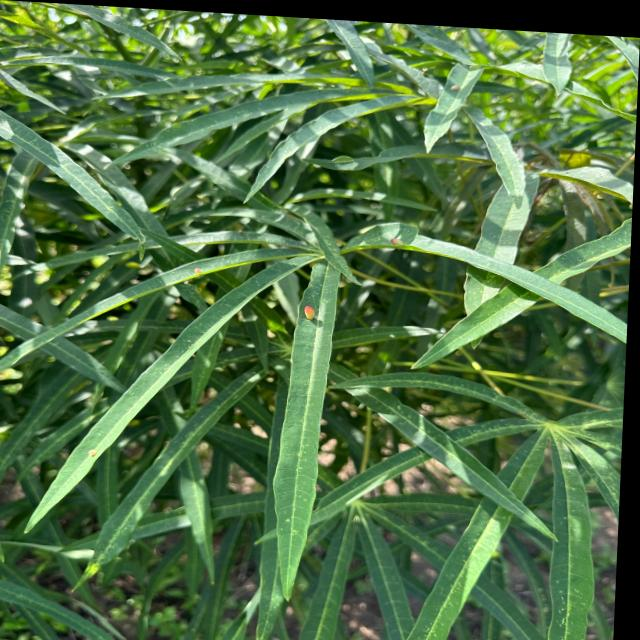Mosca: (288, 303, 331, 332), (385, 229, 411, 255), (71, 443, 106, 461), (182, 260, 202, 284), (350, 512, 369, 525), (418, 59, 431, 77), (449, 79, 461, 97)
